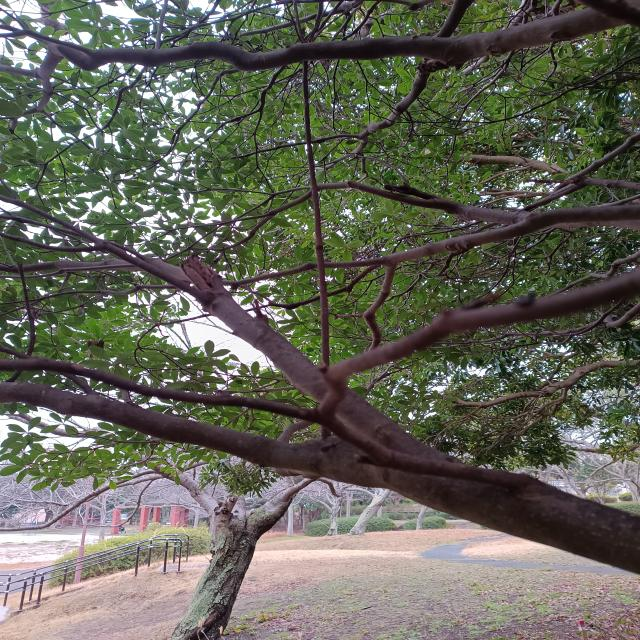Branch: (331, 408, 638, 572), (54, 0, 639, 70)
Twig: (329, 269, 640, 379), (5, 381, 328, 480), (188, 257, 377, 422), (1, 357, 325, 422), (0, 195, 182, 279), (249, 182, 432, 232), (355, 61, 450, 140), (388, 220, 526, 265), (383, 186, 528, 222), (231, 256, 389, 288), (0, 258, 185, 281), (2, 44, 59, 115), (525, 201, 640, 230), (364, 262, 397, 350)
